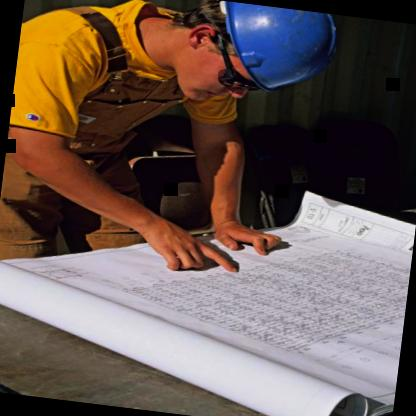helmet: (133, 0, 345, 120)
